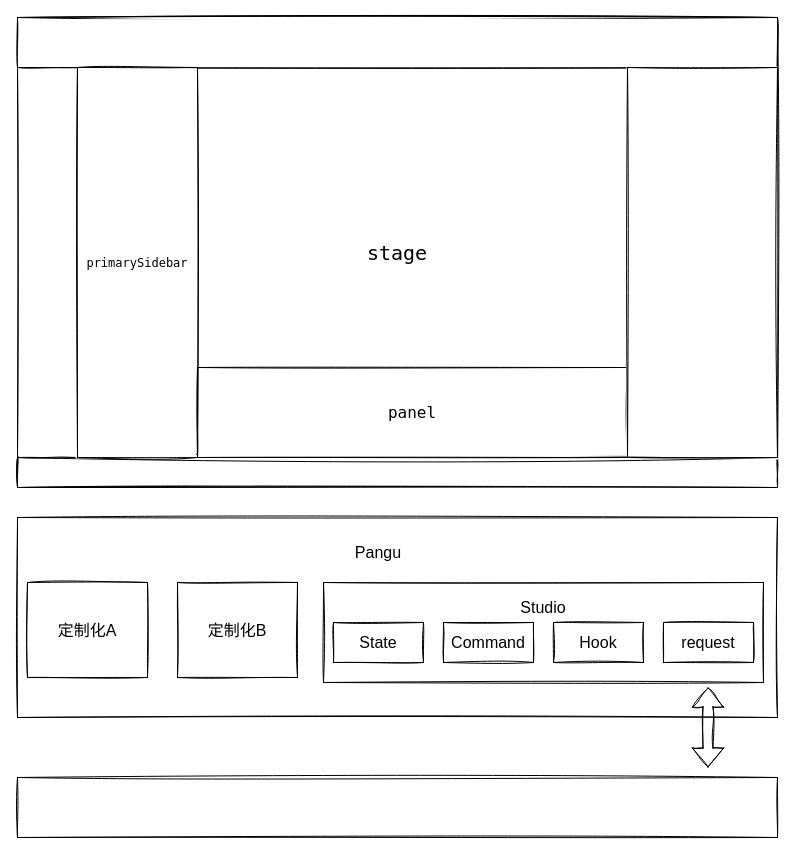
This 795x855 diagram has some shape labels left out. The shapes that lost their labels are listed below. From the top down, each one's centre as x and y in pixels, then its label:
At point (397, 42): "banner".
At point (47, 262): "activityBar".
At point (702, 262): "secondarySidebar".
At point (397, 472): "statusBar".
At point (397, 807): "Cloud".
